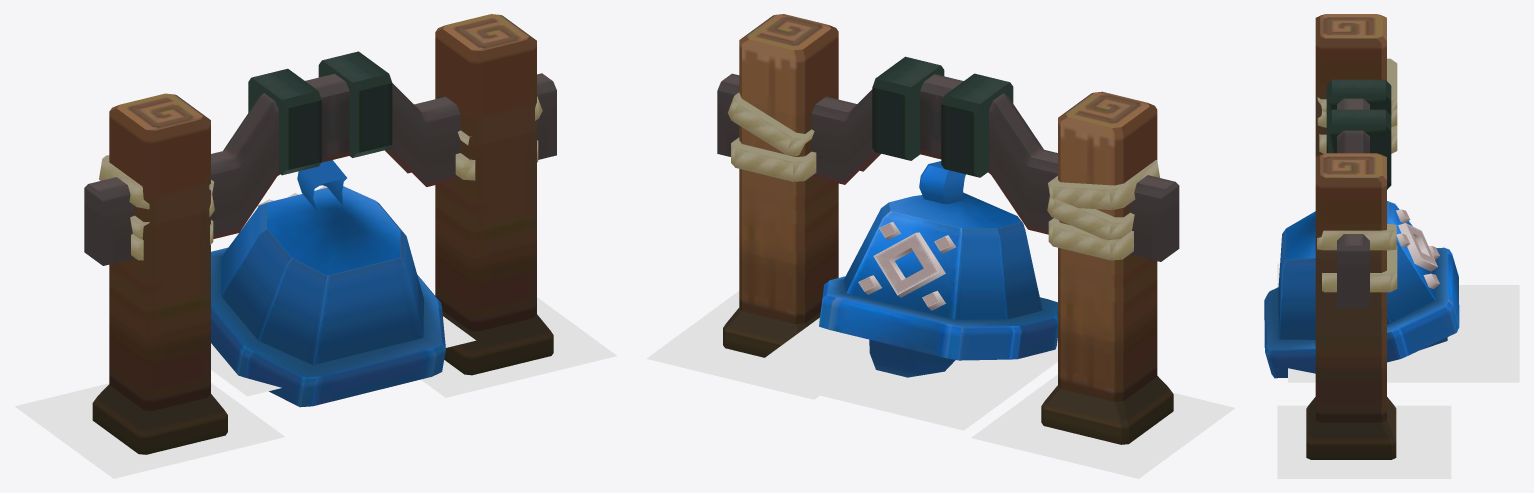
File: [gimmick]bell_blue.fbx
3 renders of one model, left to right at view 1: azimuth 30°, elevation 25°; view 2: azimuth 150°, elevation 25°; view 3: azimuth 270°, elevation 25°, orthographic. The views are drawn at different scales.
Parts seen in each view (by area): view 1: [gimmick]bell_blue, bell_blue, shadow2, shadow1, shadow; view 2: [gimmick]bell_blue, bell_blue, shadow, shadow2, shadow1; view 3: [gimmick]bell_blue, bell_blue, shadow, shadow1.
Part boxes in pixels (x1,y1,x2,y2): [gimmick]bell_blue: (84,14,556,454); bell_blue: (211,160,445,407); shadow2: (15,383,284,478); shadow1: (421,297,616,397); shadow: (211,316,475,396); [gimmick]bell_blue: (717,14,1179,444); bell_blue: (819,161,1057,377); shadow: (740,317,1057,430); shadow2: (971,374,1235,478); shadow1: (646,291,819,399); [gimmick]bell_blue: (1306,14,1397,459); bell_blue: (1264,201,1459,378); shadow: (1288,285,1519,382); shadow1: (1277,405,1451,478).
Bounding box in the file's own units: 2.64 × 1.59 × 1.32.
Materials: 2 (2 with a texture image).
